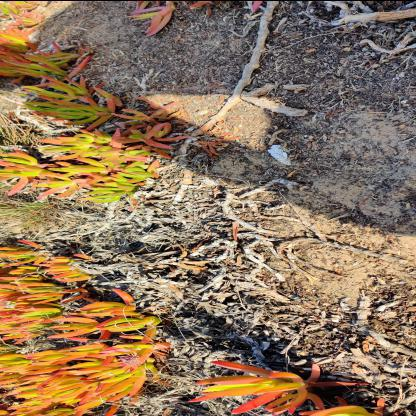metal: (268, 144, 293, 166)
